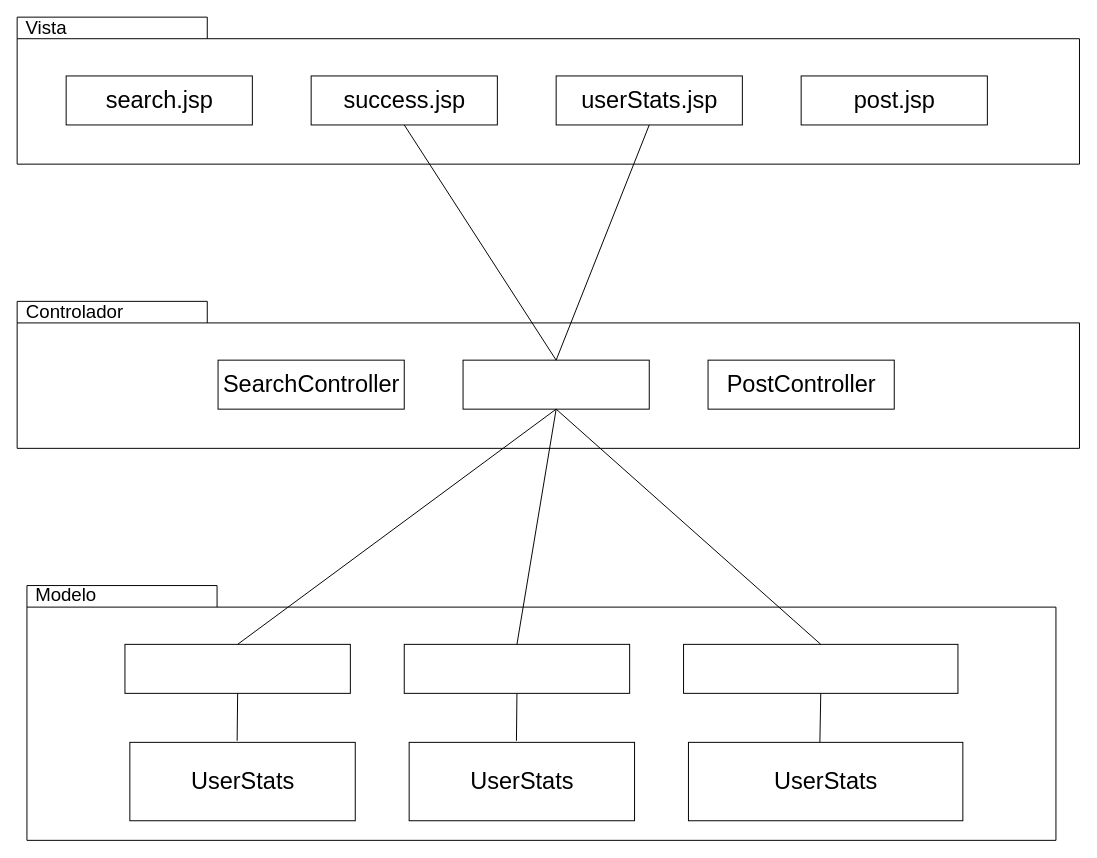
Image size: 1097x858. Some labels were removed from this diagram. Each missing label, with the centre of its shape:
"DailyMotionResource" goes at (516,668).
"DeviantArtResource" goes at (820,668).
"StatsController" goes at (555,384).
"YoutubeResource" goes at (237,668).
